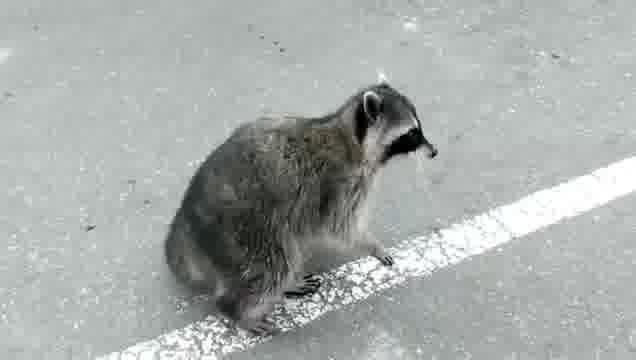raccoon: (165, 69, 439, 337)
